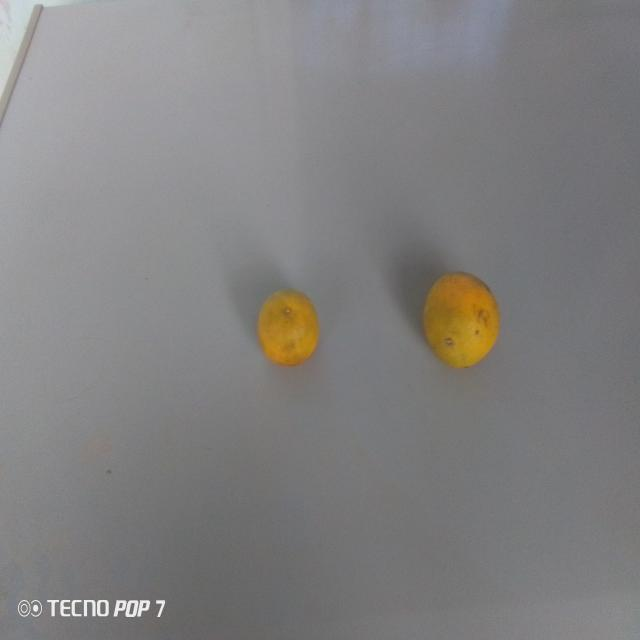Ripe orange: (409, 265, 511, 382), (251, 281, 324, 370)
